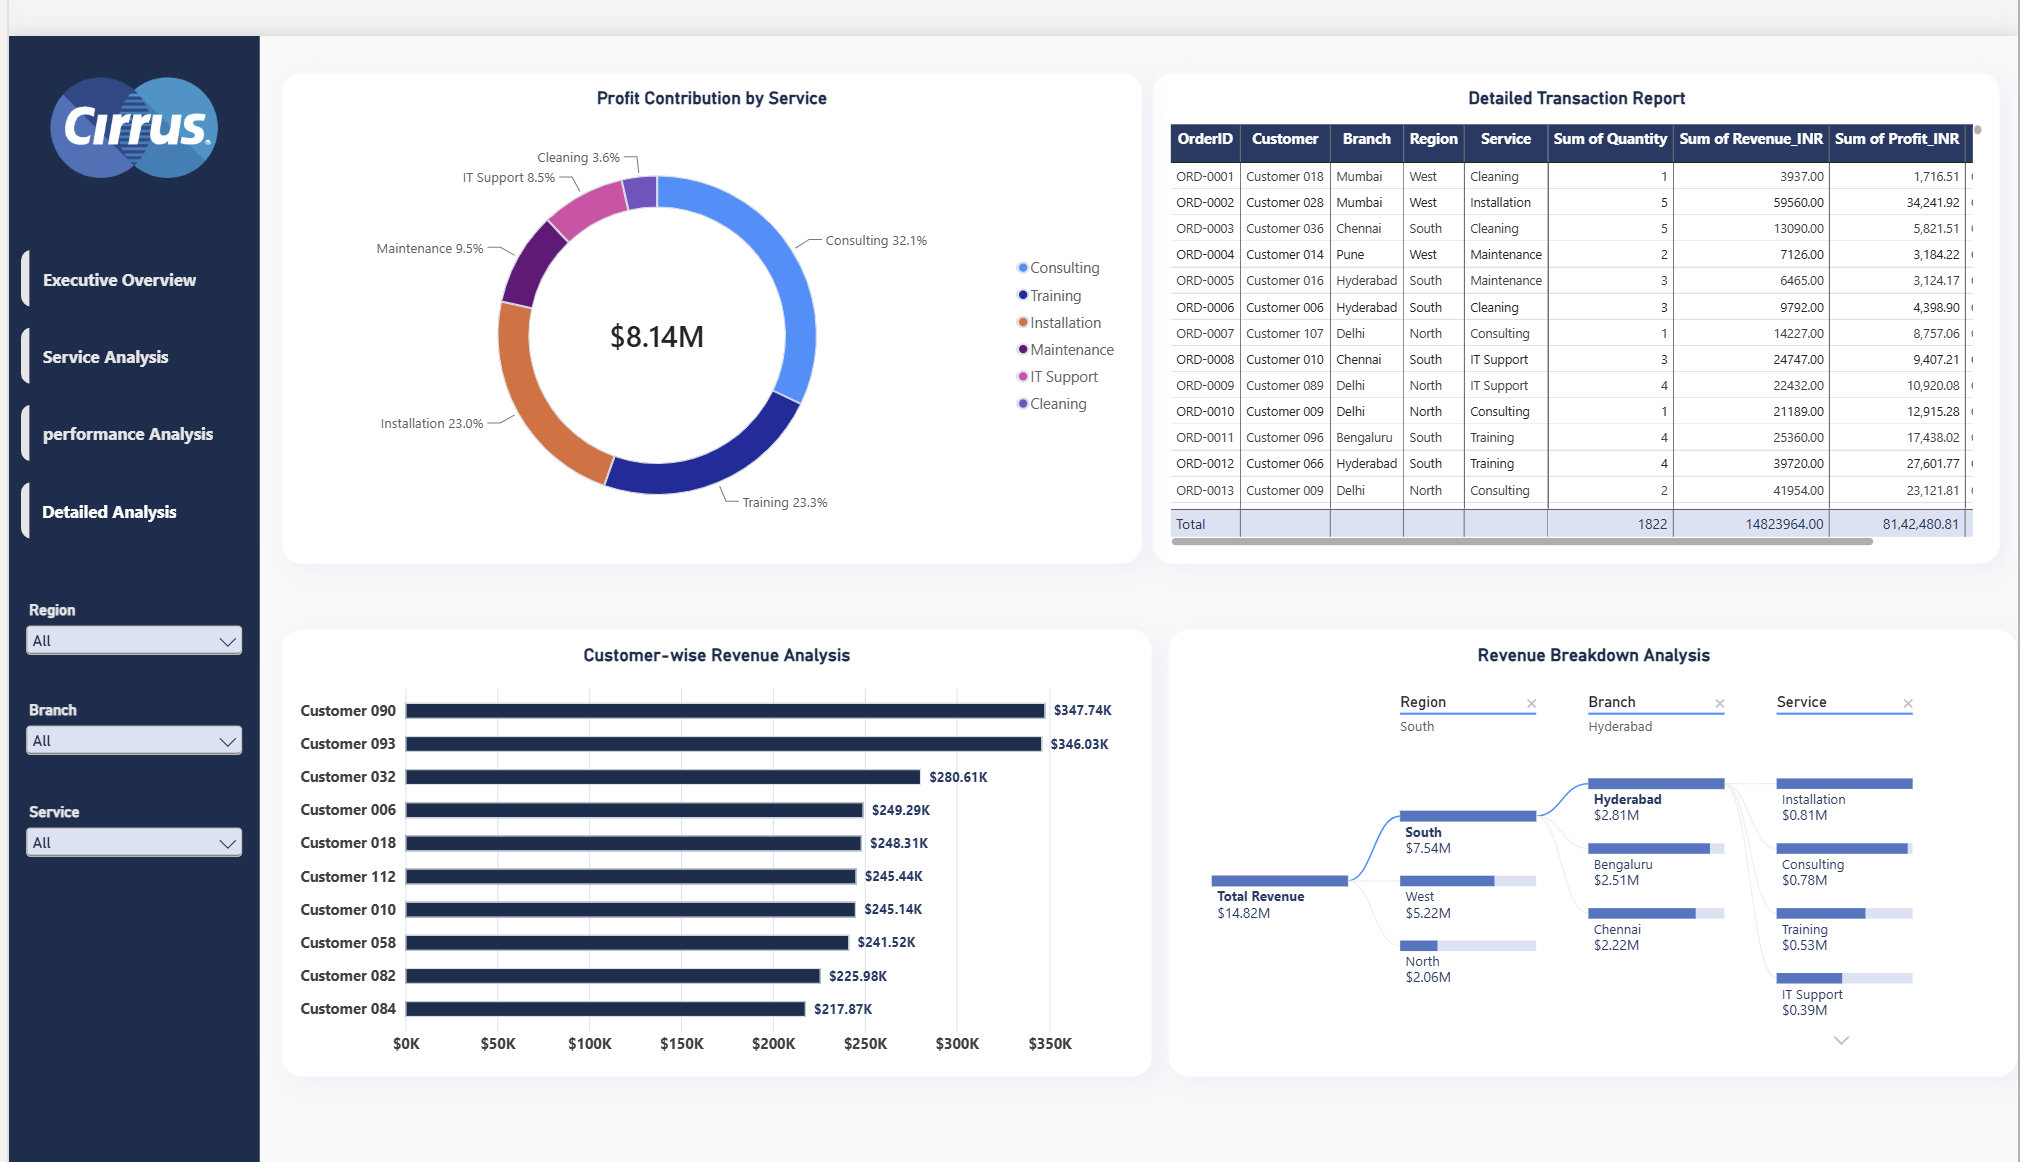

The page's visual inventory and layout, read from the dashboard file:
{"tool":"powerbi","page":{"name":"Detailed Analysis","canvas":[1920,1080],"ordinal":3},"visuals":[{"type":"shape","box":[0,0,239.8,1079.9],"z":0},{"type":"textbox","box":[0,733,260,300],"z":1000},{"type":"slicer","fields":{"Values":["ServiceData.Region"]},"box":[11.7,540,216.7,98.3],"z":2000},{"type":"slicer","fields":{"Values":["ServiceData.Branch"]},"box":[11.7,635,216.7,98.3],"z":3000},{"type":"slicer","fields":{"Values":["ServiceData.Service"]},"box":[11.7,733.3,216.7,91.7],"z":4000},{"type":"pageNavigator","box":[11.7,205.3,203,280],"z":5000},{"type":"image","box":[28,8,182,160],"z":6000},{"type":"tableEx","title":"Detailed Transaction Report","fields":{"Values":["ServiceData.OrderID","ServiceData.Customer","ServiceData.Branch","ServiceData.Region","ServiceData.Service","Sum(ServiceData.Quantity)","Sum(ServiceData.Revenue_INR)","Sum(ServiceData.Profit_INR)","ServiceData.Status"]},"box":[1092,34.4,810.8,470.4],"z":6001},{"type":"clusteredBarChart","title":"Customer-wise Revenue Analysis","fields":{"Category":["ServiceData.Customer"],"Y":["ServiceData.Total Revenue"]},"box":[260.1,566.1,831.9,428.4],"z":6002},{"type":"donutChart","title":"Profit Contribution by Service","fields":{"Category":["ServiceData.Service"],"Y":["ServiceData.Total Profit"]},"box":[260.1,34.4,822.3,470.4],"z":6003},{"type":"decompositionTreeVisual","title":"Revenue Breakdown Analysis","fields":{"Analyze":["ServiceData.Total Revenue"],"ExplainBy":["ServiceData.Region","ServiceData.Branch","ServiceData.Service"]},"box":[1107.3,566.1,812.7,428.4],"z":6004}]}

Visuals, with their boxes in screenshot pixels (x1, y1, x2, y2), scaled from the page's 1920x1080 canvas onto the 2028x1162 screenshot:
shape: (0, 0, 253, 1161)
textbox: (0, 789, 275, 1111)
slicer - ServiceData.Region: (12, 581, 241, 687)
slicer - ServiceData.Branch: (12, 683, 241, 789)
slicer - ServiceData.Service: (12, 789, 241, 888)
pageNavigator: (12, 221, 227, 522)
image: (30, 9, 222, 181)
"Detailed Transaction Report" tableEx: (1153, 37, 2010, 543)
"Customer-wise Revenue Analysis" clusteredBarChart: (275, 609, 1153, 1070)
"Profit Contribution by Service" donutChart: (275, 37, 1143, 543)
"Revenue Breakdown Analysis" decompositionTreeVisual: (1170, 609, 2027, 1070)
